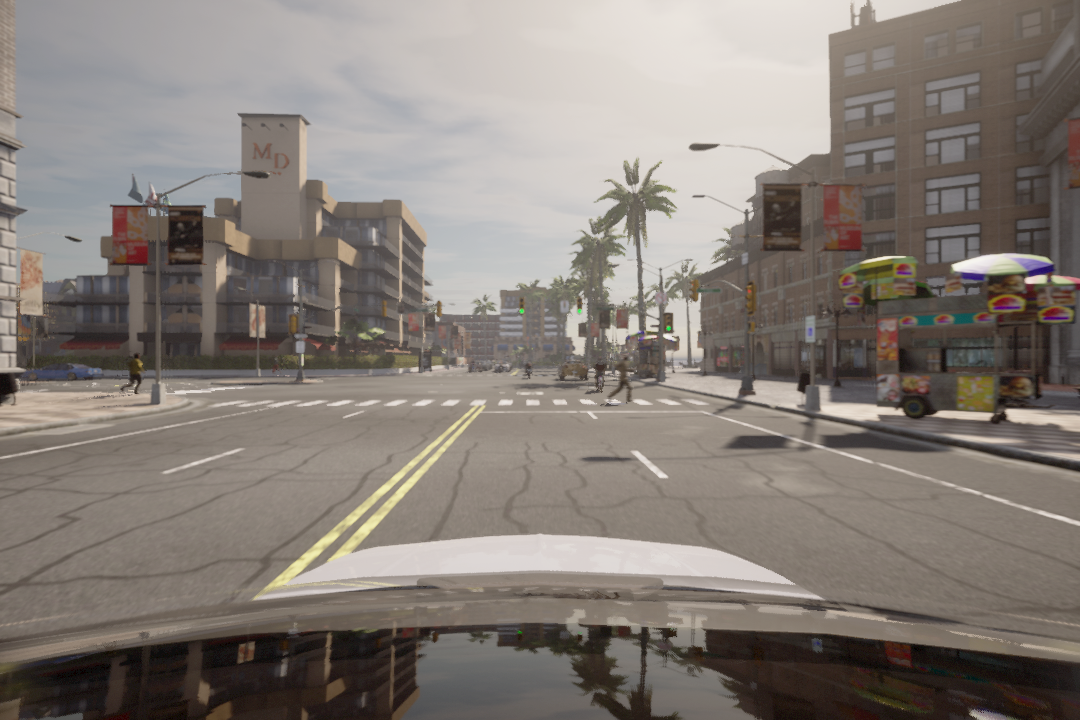TrafficLight: (744, 282, 758, 314), (664, 313, 674, 333), (518, 295, 527, 317), (576, 296, 584, 314)
walkside: (204, 397, 724, 407)
